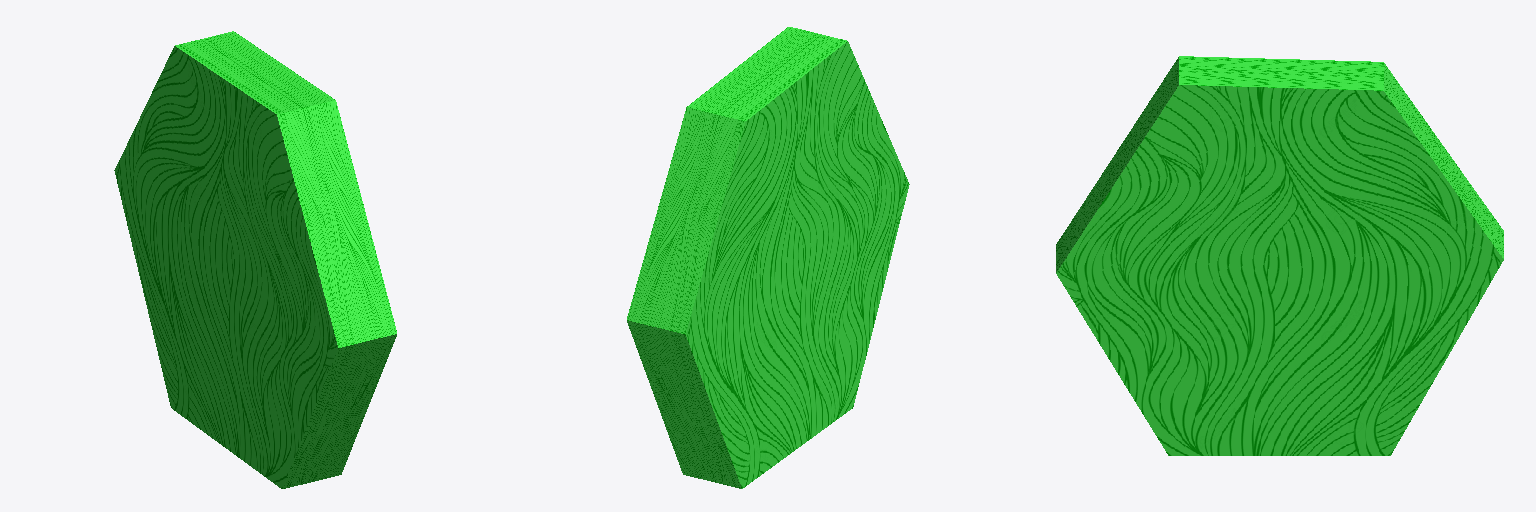
3 renders of one model, left to right at view 1: azimuth 30°, elevation 25°; view 2: azimuth 150°, elevation 25°; view 3: azimuth 270°, elevation 25°, orthographic.
Visible parts, largest first — view 1: pCylinder1; view 2: pCylinder1; view 3: pCylinder1.
Part boxes in pixels (x1,y1,x2,y2): pCylinder1: (114, 31, 396, 488); pCylinder1: (627, 27, 909, 488); pCylinder1: (1056, 56, 1503, 455).
Size of the model in its own units: 0.8515 by 5.1 by 5.58.
Materials: 1 (1 with a texture image).